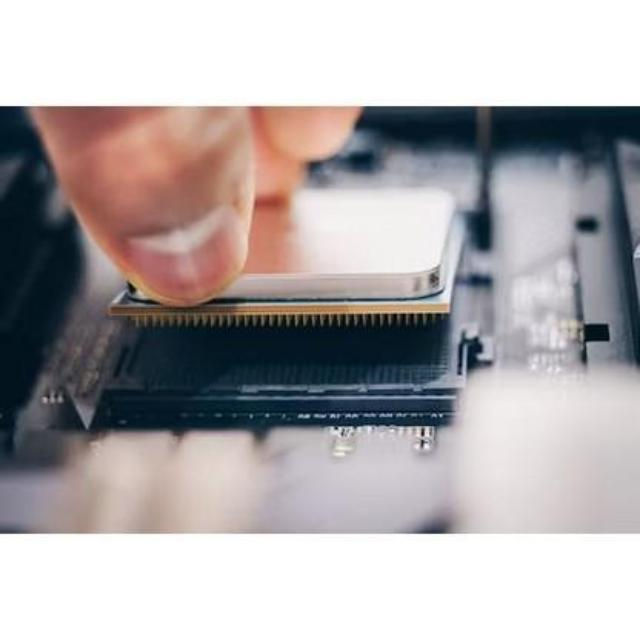CPU: (104, 186, 464, 326)
